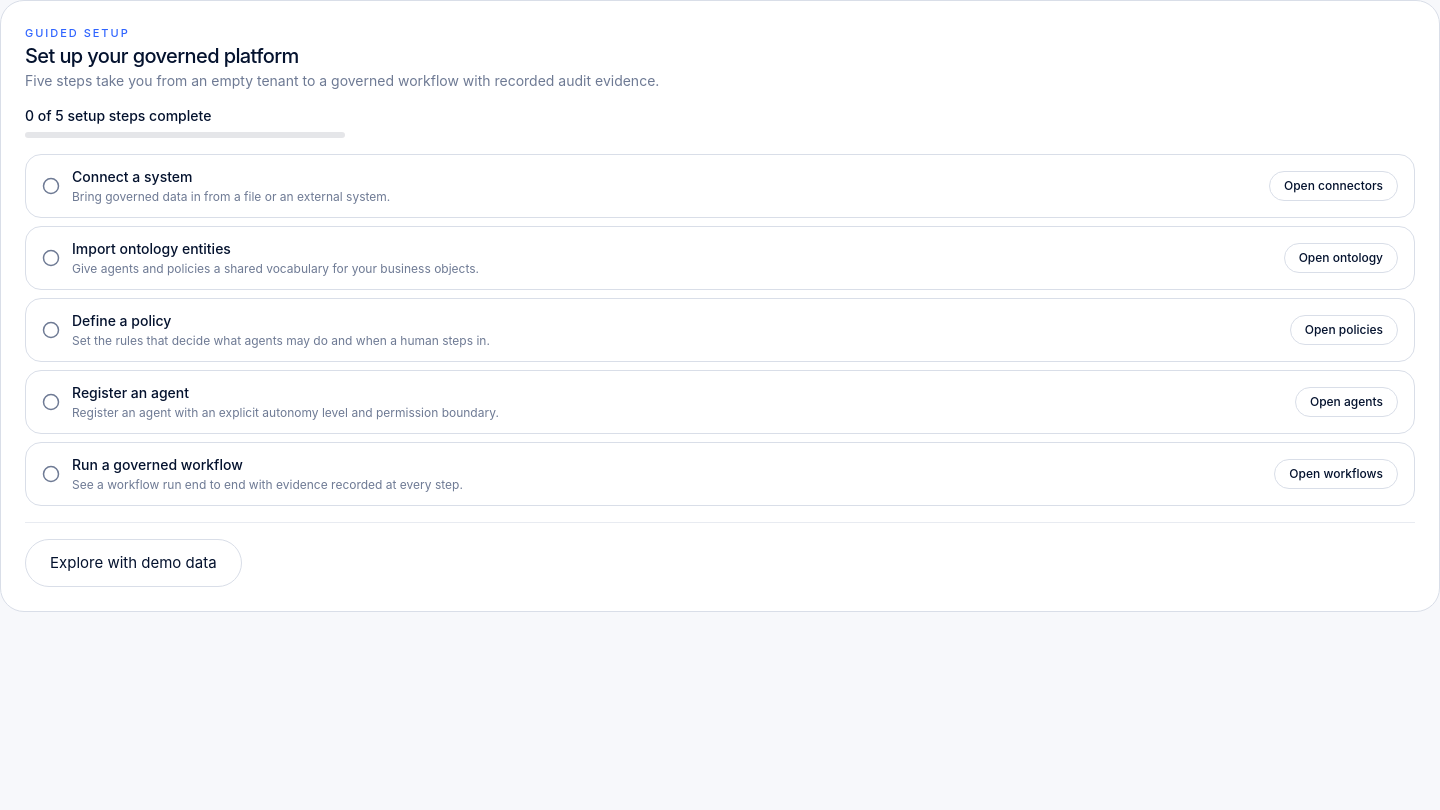
Test: PlatformOverview demo bootstrap CTA › POSTs the bootstrap request, toasts, and refreshes the console on success
What coordinates should you click on to do the following:
click the button "Explore with demo data"
I would click on:
 (133, 563)
Its box is [25, 539, 242, 587].
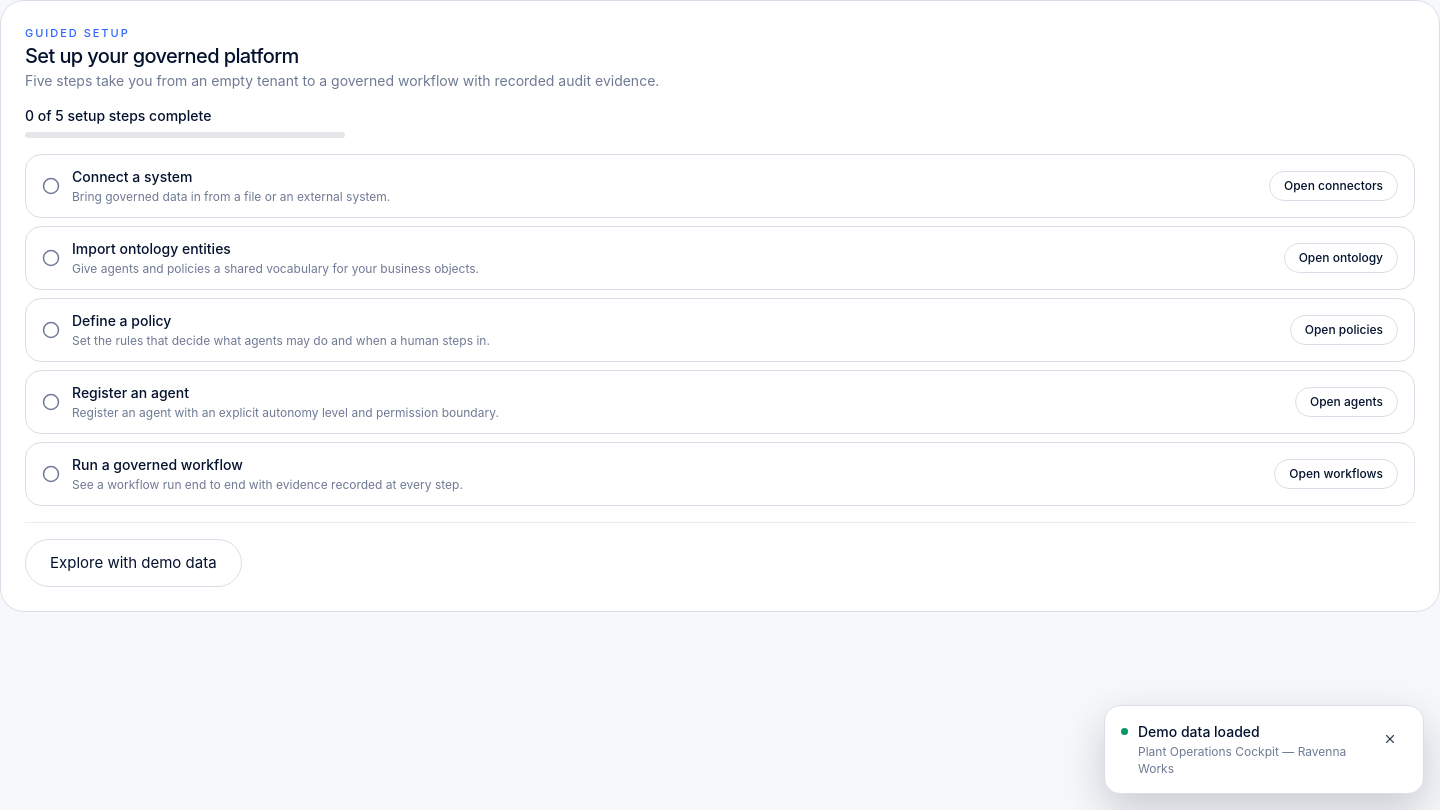
Expected: the text "Demo data loaded" is shown, [1138, 723, 1260, 740]
